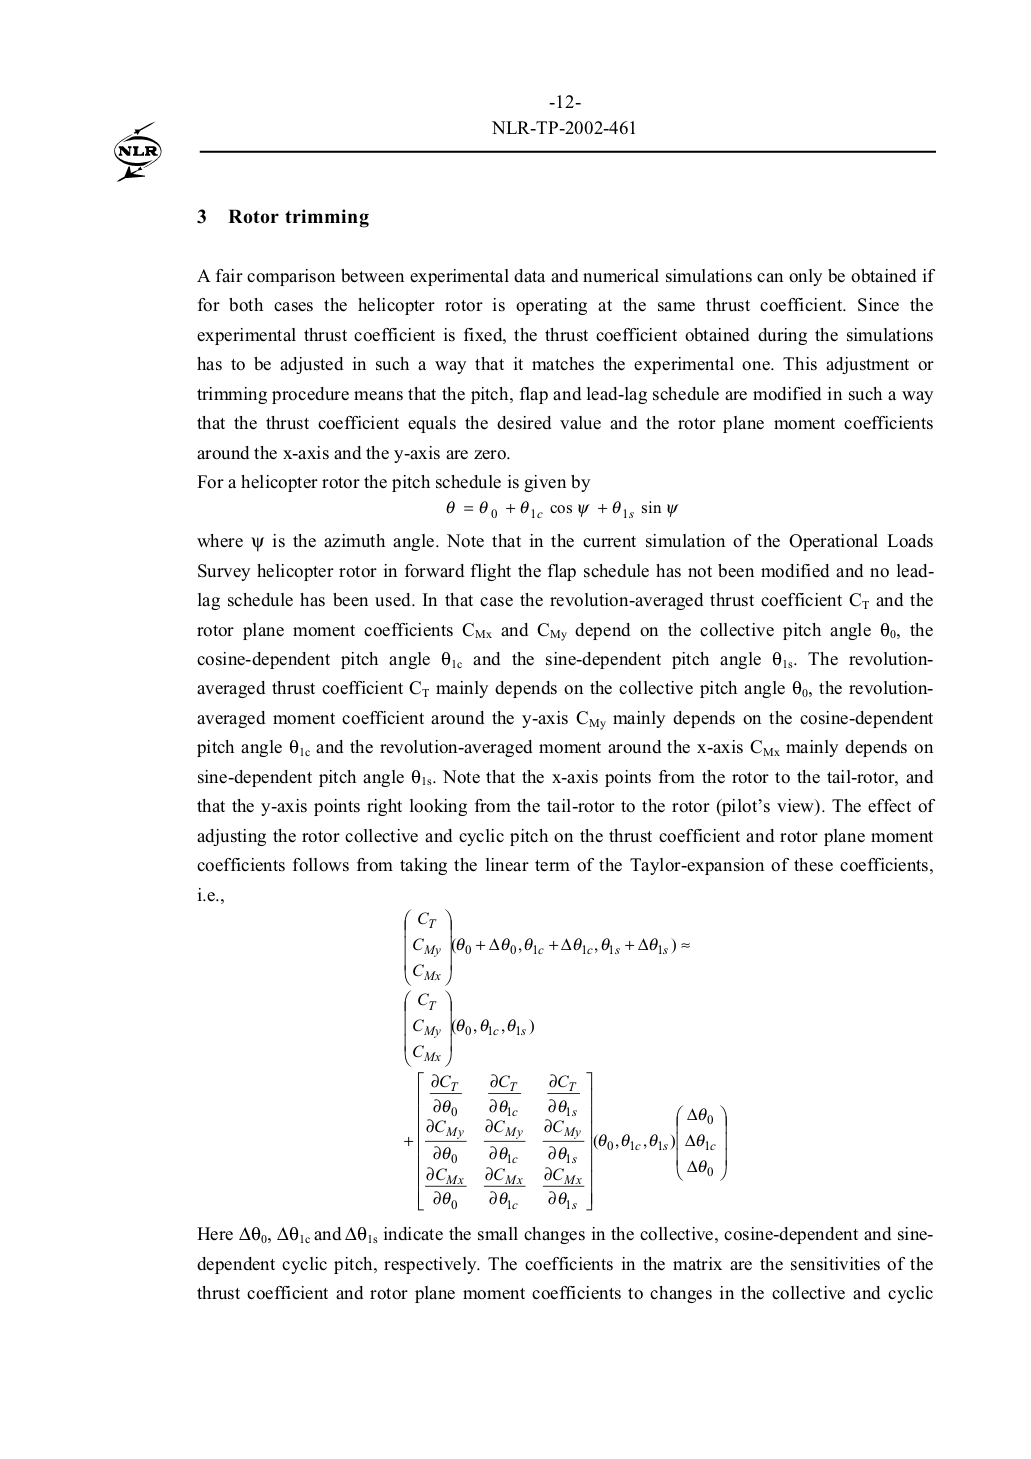figure: (114, 120, 161, 181)
formula: (404, 1071, 726, 1211), (404, 908, 688, 986), (404, 989, 533, 1067), (446, 500, 678, 519)
